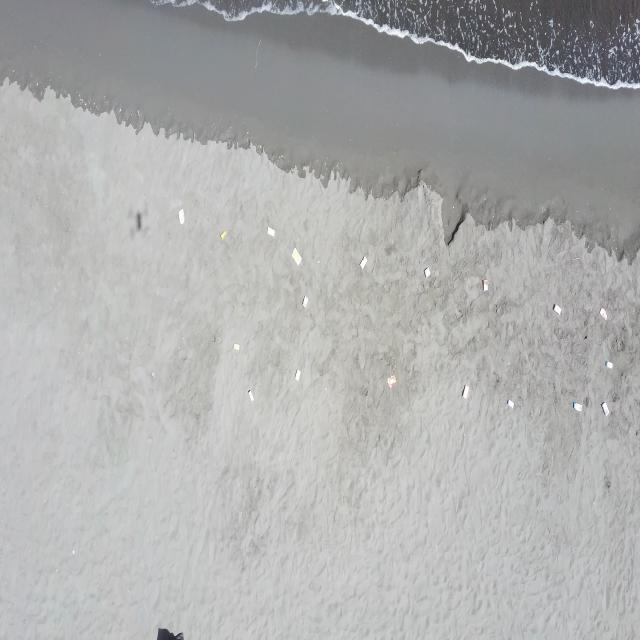retort-pouch: (290, 246, 302, 267), (571, 400, 584, 413), (601, 400, 610, 418), (552, 302, 563, 316), (178, 208, 185, 227), (388, 374, 396, 390), (462, 382, 469, 400), (599, 307, 608, 321), (293, 368, 302, 382), (506, 396, 515, 410), (360, 255, 368, 270), (301, 295, 309, 309), (220, 227, 227, 242), (268, 225, 276, 238), (605, 359, 614, 370), (482, 278, 488, 293), (248, 389, 254, 404), (424, 266, 431, 278), (233, 342, 240, 353)
